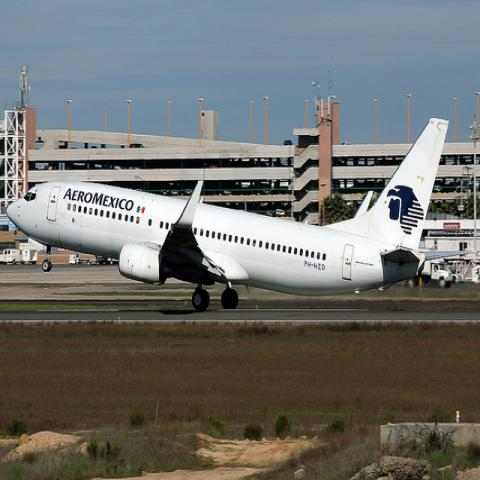car: (20, 246, 37, 265)
truck: (421, 258, 453, 288), (1, 248, 19, 269)
